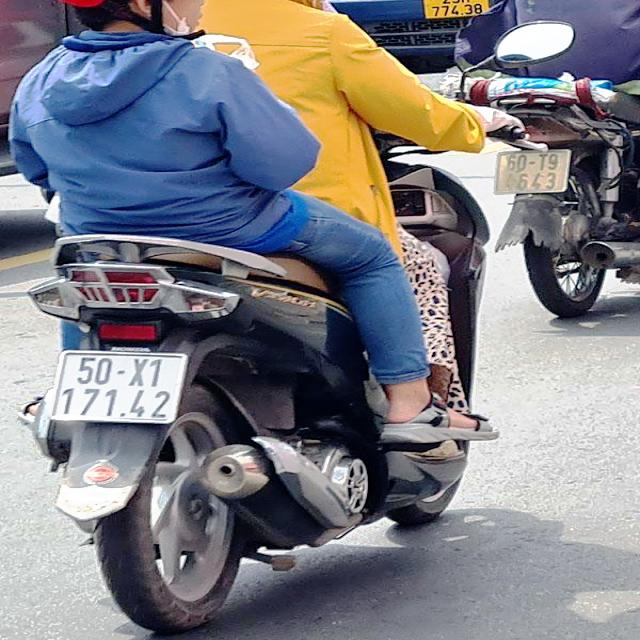license_plate: (55, 354, 190, 423)
